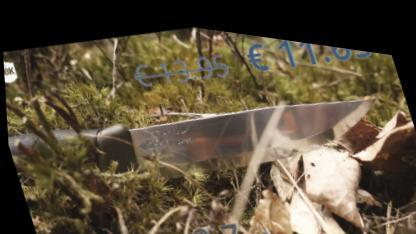knife: (93, 43, 401, 208)
